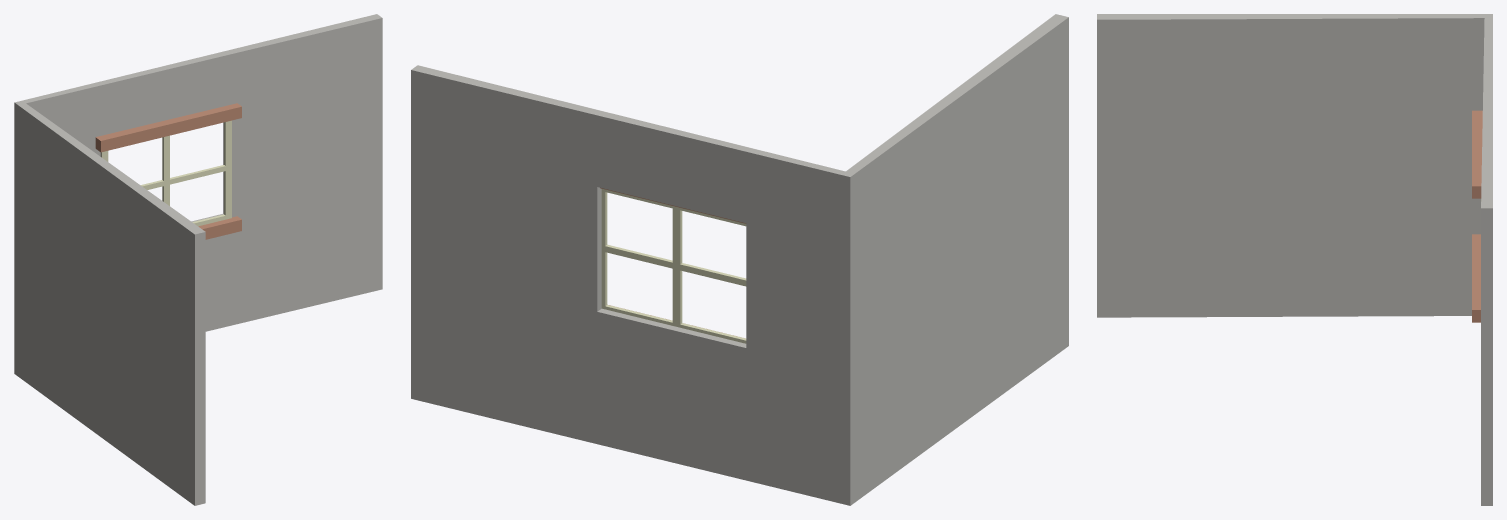
The model's file is paredes.fbx.
3 renders of one model, left to right at view 1: azimuth 30°, elevation 25°; view 2: azimuth 150°, elevation 25°; view 3: azimuth 270°, elevation 25°, orthographic. The views are drawn at different scales.
Parts seen in each view (by area): view 1: pared, marcos 1, marcos 2; view 2: pared, marcos 2; view 3: pared, marcos 1.
Part boxes in pixels (x1,y1,x2,y2): pared: (14,14,382,505); marcos 1: (95,103,241,239); marcos 2: (100,120,231,226); pared: (411,14,1068,505); marcos 2: (601,189,746,343); pared: (1097,14,1492,505); marcos 1: (1472,110,1482,322).
Size of the model in its own units: 869 by 721 by 1008.
